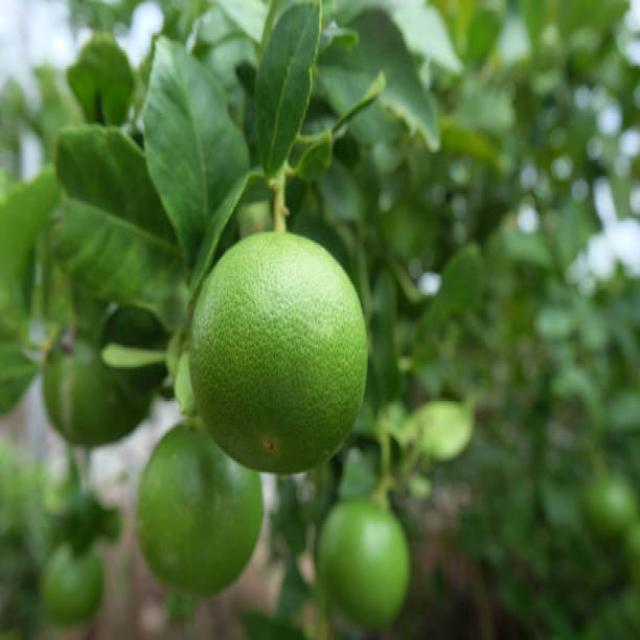Unripe: (190, 225, 369, 476), (134, 422, 265, 594), (316, 497, 408, 634)
